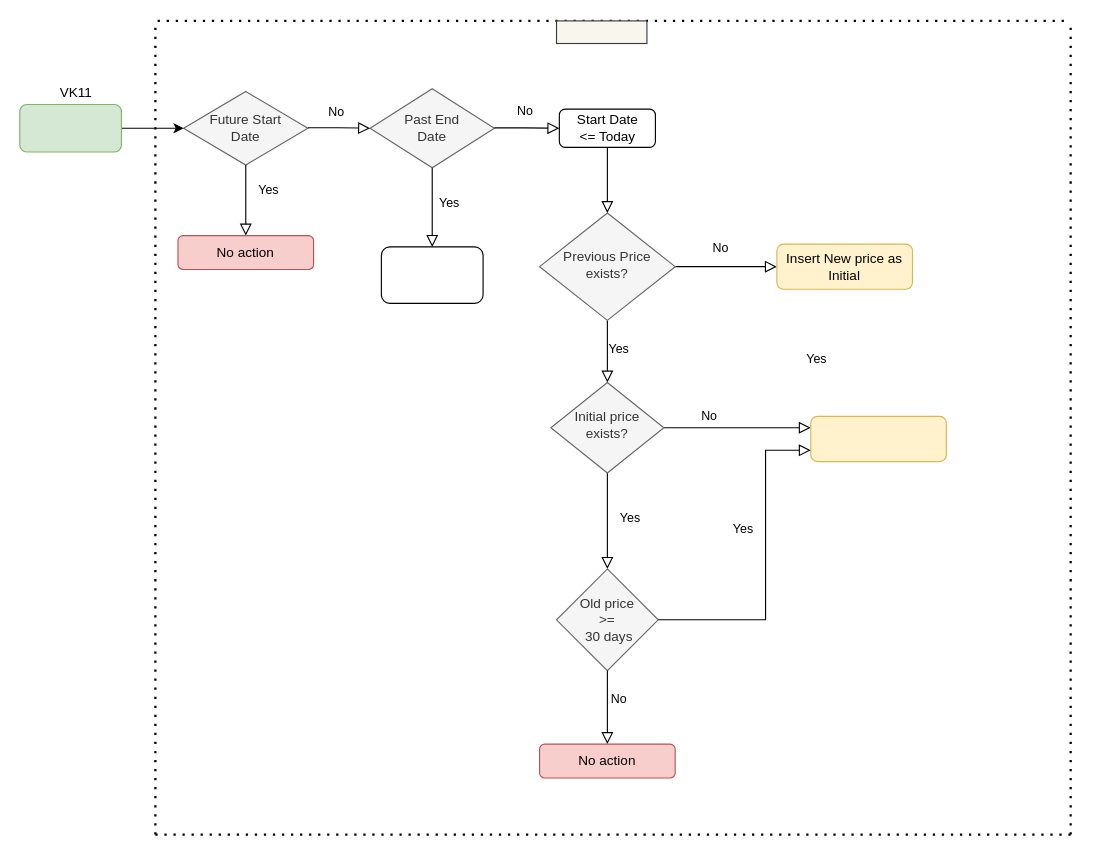
The diagram is 1093 pixels wide and 855 high, and some of its shapes have lost their labels. Here are the shapes that lost their labels. From the top down, the centre of each, then its label:
point 601,32: User Exit
point 70,127: New Price in a Date range
point 431,274: Compare new entry with old INIT
point 878,438: Insert Old price as Initial
